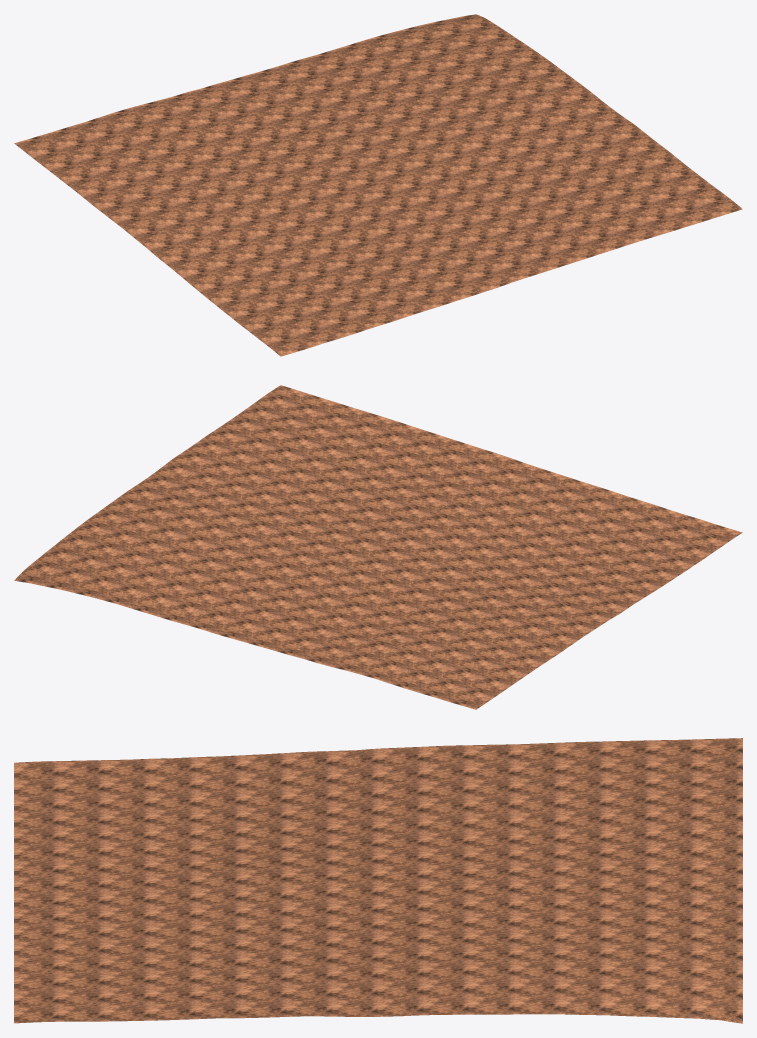
Rendered from terrain_02_11.dae.
The picture shows the model from 3 angles, top to bottom: view 1: azimuth 30°, elevation 25°; view 2: azimuth 150°, elevation 25°; view 3: azimuth 270°, elevation 25°; orthographic projection. The views are drawn at different scales.
Parts seen in each view (by area): view 1: terrain_02_11-node; view 2: terrain_02_11-node; view 3: terrain_02_11-node.
Boxes of the visible parts, x1,y1,x2,y2 form: terrain_02_11-node: [14, 14, 742, 356]; terrain_02_11-node: [14, 385, 742, 709]; terrain_02_11-node: [14, 738, 742, 1023].
Size of the model in its own units: 128 by 128 by 11.
Materials: 1 (1 with a texture image).
